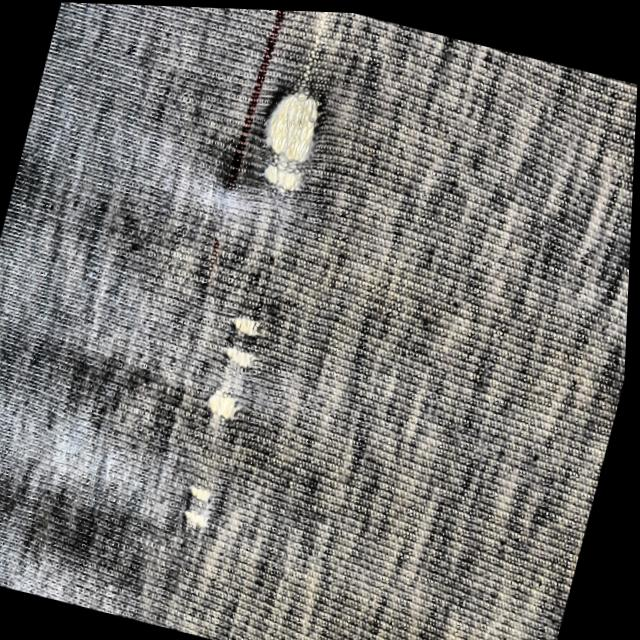Hole: (199, 373, 256, 434), (175, 503, 222, 542), (182, 471, 224, 505)
